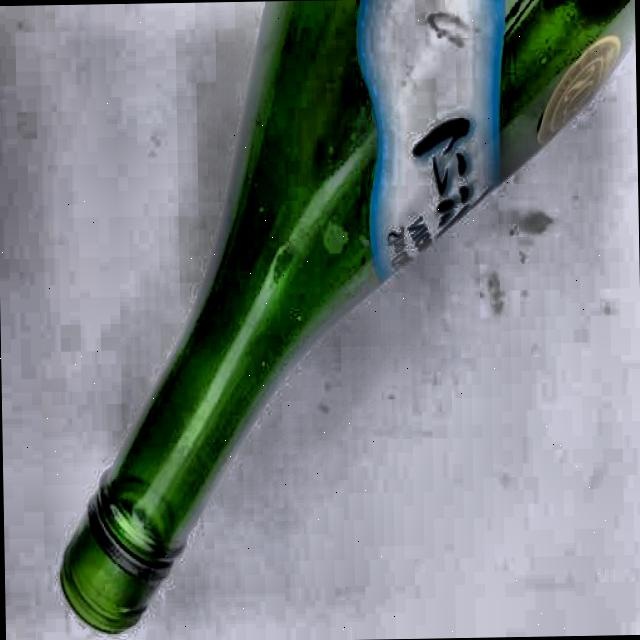glass: (49, 0, 640, 631)
